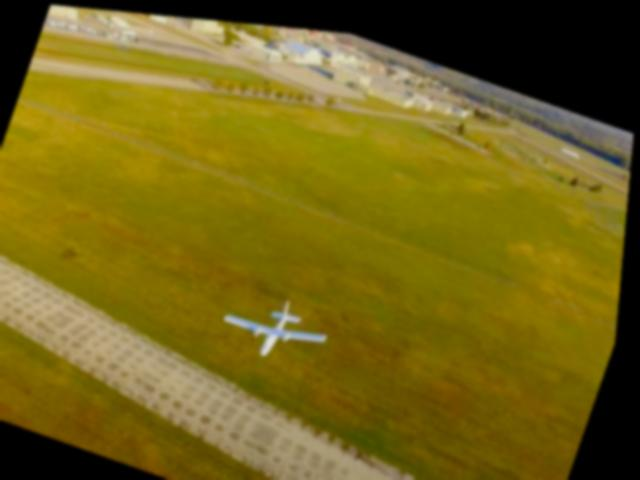uav: (218, 274, 340, 369)
